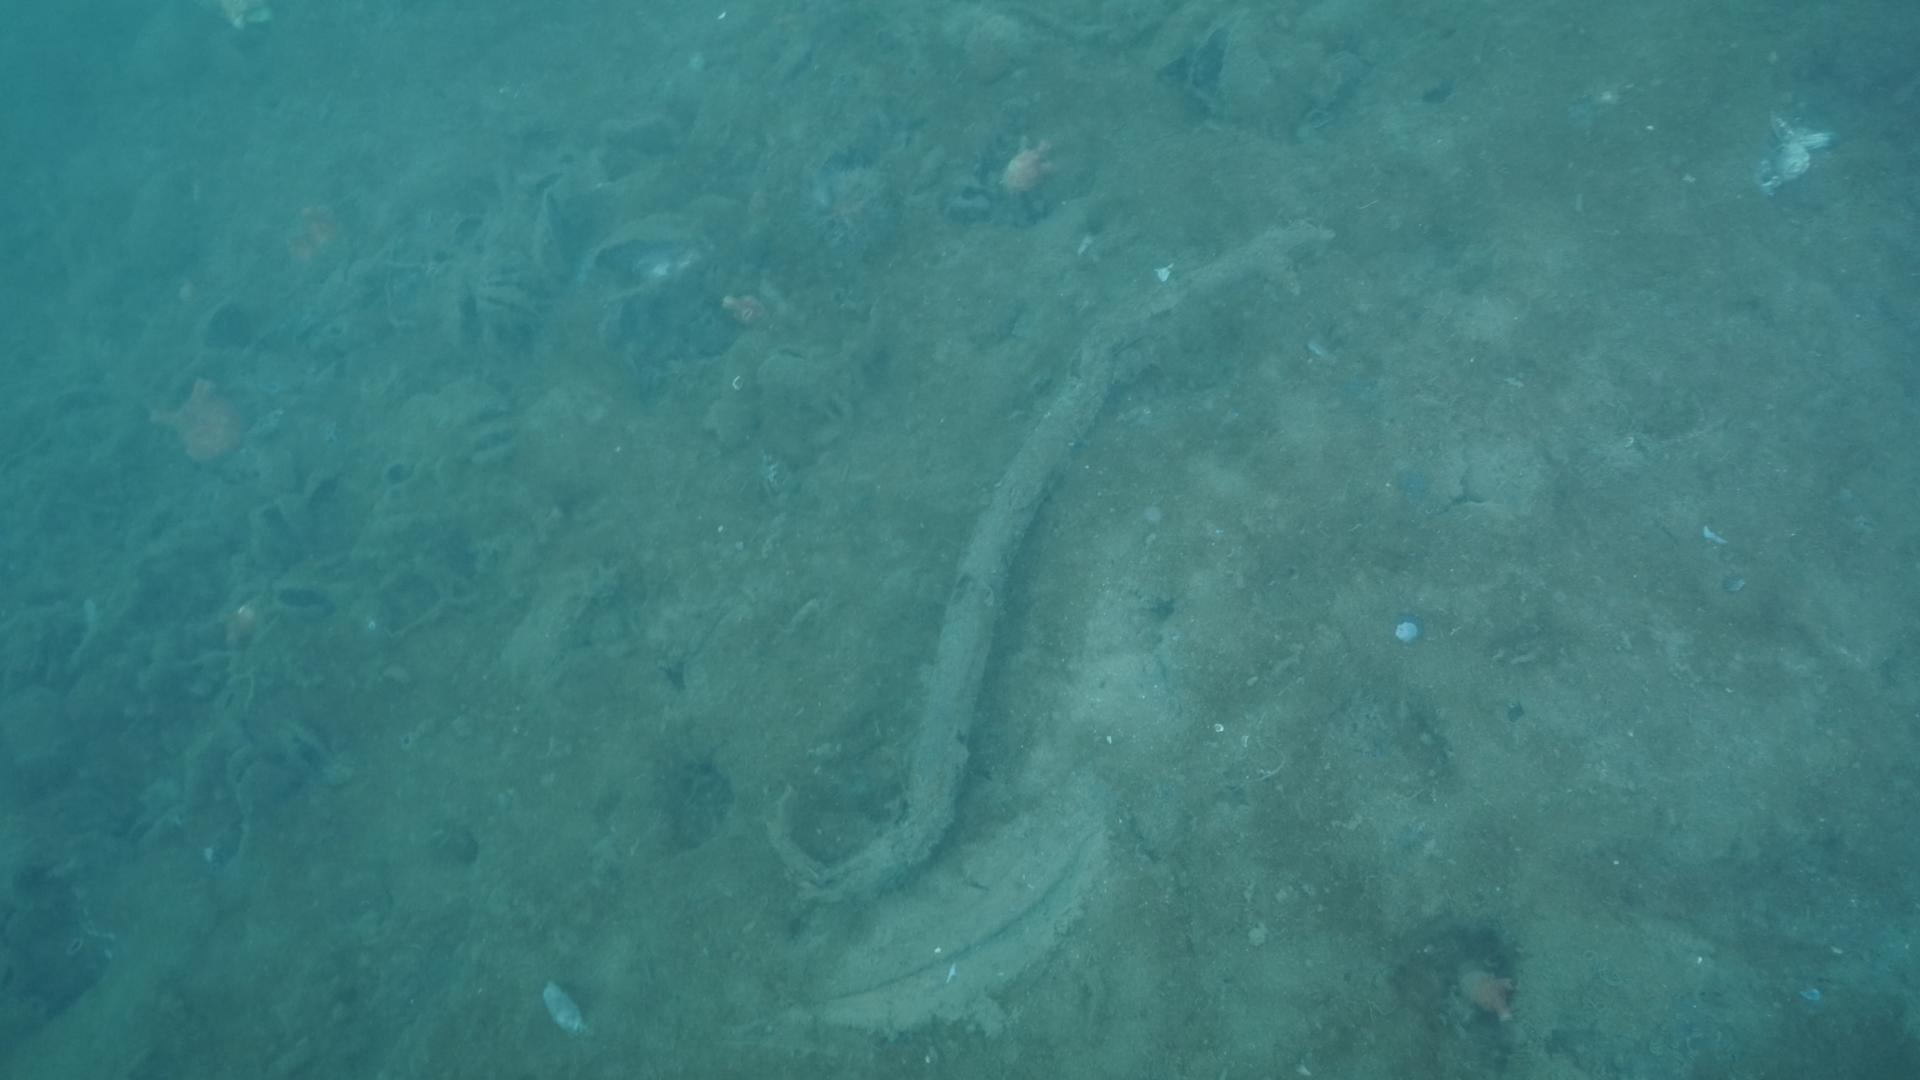wood: (764, 214, 1338, 898)
